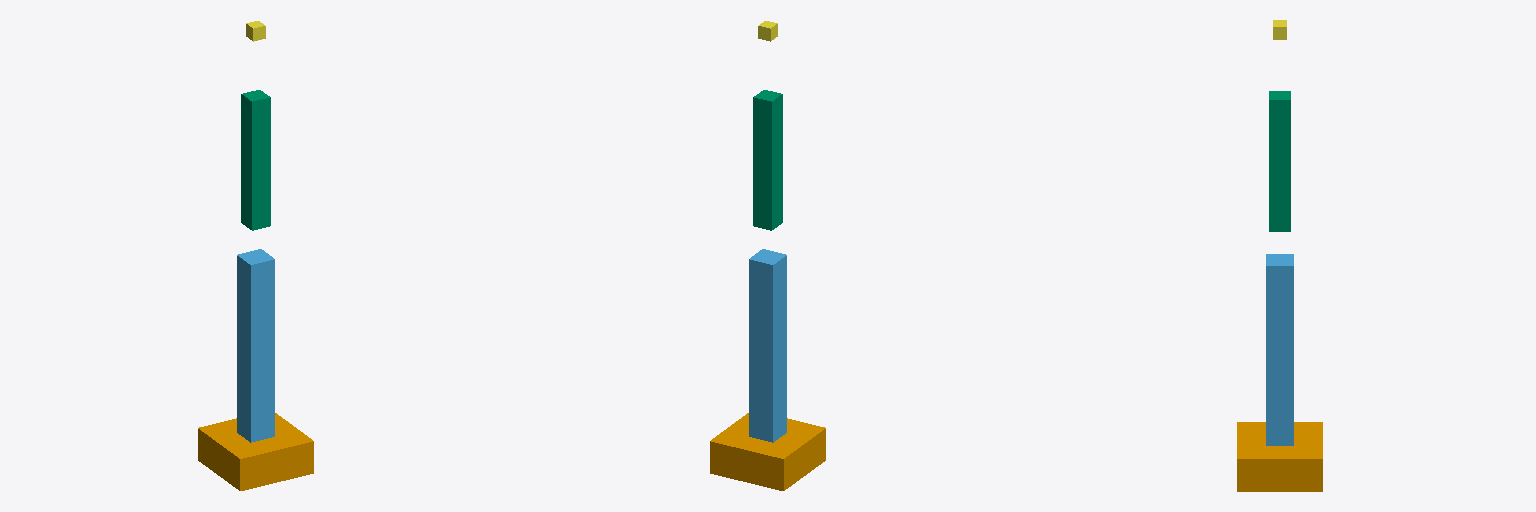
The robot description file, URDF, robot "desk_arm":
<?xml version="1.0"?>
<!-- A two-joint desk arm used by the offline demo. It is a stand-in for a
     real robot description: the bridge only needs a link whose collision
     geometry it can replace with a Lux3D-generated mesh. -->
<robot name="desk_arm">
  <link name="base_link">
    <visual>
      <geometry>
        <box size="0.12 0.12 0.05"/>
      </geometry>
    </visual>
    <collision>
      <geometry>
        <box size="0.12 0.12 0.05"/>
      </geometry>
    </collision>
    <inertial>
      <mass value="1.2"/>
      <inertia ixx="0.0020" ixy="0" ixz="0" iyy="0.0020" iyz="0" izz="0.0020"/>
    </inertial>
  </link>

  <link name="link1">
    <visual>
      <geometry>
        <box size="0.04 0.04 0.30"/>
      </geometry>
    </visual>
    <collision>
      <geometry>
        <box size="0.04 0.04 0.30"/>
      </geometry>
    </collision>
    <inertial>
      <mass value="0.6"/>
      <inertia ixx="0.0045" ixy="0" ixz="0" iyy="0.0045" iyz="0" izz="0.0003"/>
    </inertial>
  </link>

  <link name="link2">
    <visual>
      <geometry>
        <box size="0.03 0.03 0.20"/>
      </geometry>
    </visual>
    <collision>
      <geometry>
        <box size="0.03 0.03 0.20"/>
      </geometry>
    </collision>
    <inertial>
      <mass value="0.4"/>
      <inertia ixx="0.0013" ixy="0" ixz="0" iyy="0.0013" iyz="0" izz="0.0001"/>
    </inertial>
  </link>

  <!-- the tool flange: this is the link whose collision geometry the bridge replaces -->
  <link name="tool">
    <visual>
      <geometry>
        <box size="0.02 0.02 0.02"/>
      </geometry>
    </visual>
    <collision>
      <geometry>
        <box size="0.02 0.02 0.02"/>
      </geometry>
    </collision>
    <inertial>
      <mass value="0.1"/>
      <inertia ixx="0.00002" ixy="0" ixz="0" iyy="0.00002" iyz="0" izz="0.00002"/>
    </inertial>
  </link>

  <joint name="joint1" type="revolute">
    <parent link="base_link"/>
    <child link="link1"/>
    <origin xyz="0 0 0.15" rpy="0 0 0"/>
    <axis xyz="0 0 1"/>
    <limit lower="-1.5708" upper="1.5708" effort="20" velocity="1.0"/>
    <dynamics damping="0.05"/>
  </joint>

  <joint name="joint2" type="revolute">
    <parent link="link1"/>
    <child link="link2"/>
    <origin xyz="0 0 0.30" rpy="0 0 0"/>
    <axis xyz="0 1 0"/>
    <limit lower="-1.5708" upper="1.5708" effort="12" velocity="1.0"/>
    <dynamics damping="0.05"/>
  </joint>

  <joint name="joint_tool" type="fixed">
    <parent link="link2"/>
    <child link="tool"/>
    <origin xyz="0 0 0.20" rpy="0 0 0"/>
  </joint>
</robot>

--- Render facts (derived) ---
Views: 3 orthographic renders of the robot side by side, from view 1: azimuth 30°, elevation 25°; view 2: azimuth 150°, elevation 25°; view 3: azimuth 270°, elevation 25°.
Robot: desk_arm — 4 links, 3 joints (2 revolute, 1 fixed); root link base_link; default pose: all joints at 0.
Links seen in each view (by area): view 1: link1, base_link, link2; view 2: link1, base_link, link2; view 3: link1, base_link, link2.
Link boxes in pixels (x1,y1,x2,y2): link1: (237, 249, 274, 442); base_link: (198, 413, 313, 490); link2: (241, 90, 270, 230); link1: (749, 249, 786, 442); base_link: (710, 413, 825, 490); link2: (753, 90, 782, 230); link1: (1266, 254, 1293, 445); base_link: (1237, 422, 1322, 491); link2: (1269, 91, 1290, 231).
Bounding box of the posed robot: 0.12 × 0.12 × 0.685 m (x, y, z).
Geometry: primitives only (box / cylinder / sphere), no mesh files.
